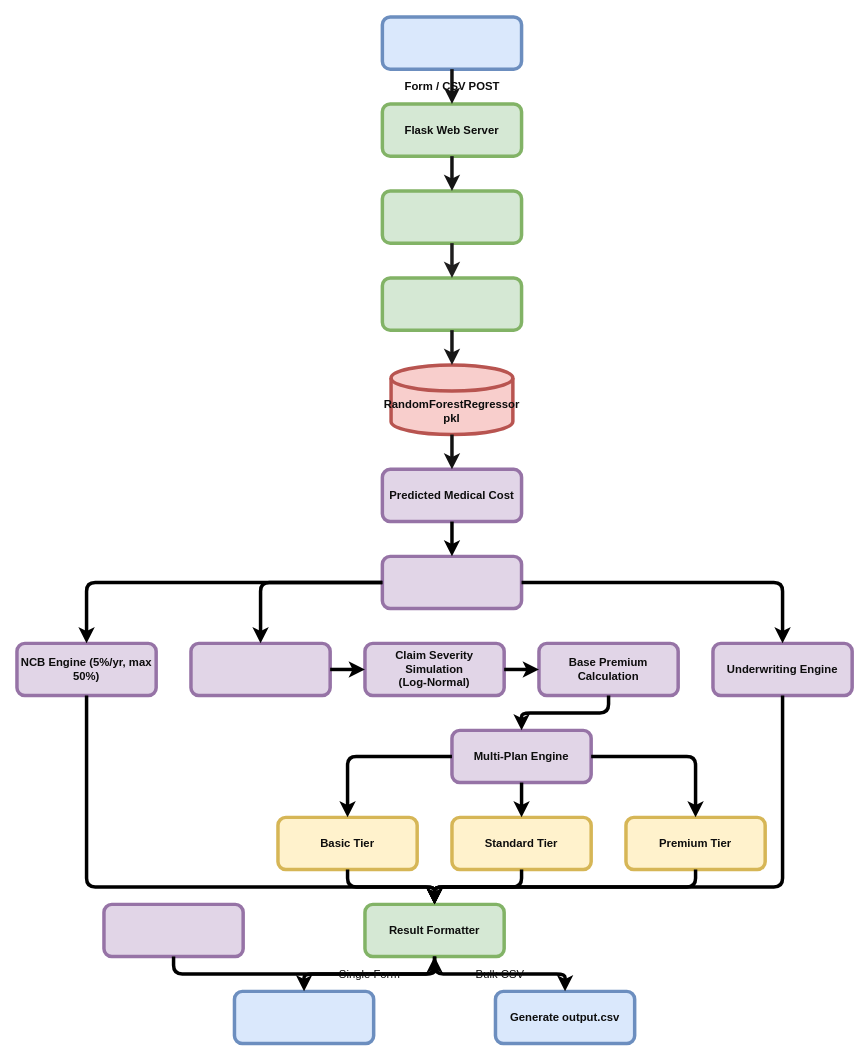
Some shapes in this 868 by 1060 pixel diagram are drawn without their labels. The centre of each missing label's shape, as x and y in pixels:
"Actuarial Engine" belongs at point (451, 582).
"Coverage Projection (12% inflation)" belongs at point (173, 930).
"Data Cleaning & Encoding" belongs at point (451, 303).
"Frontend: HTML/CSS/JS" belongs at point (451, 42).
"Render op.html" belongs at point (303, 1017).
"Risk Adjustment" belongs at point (260, 669).
"Validation & Security Layer" belongs at point (451, 216).
